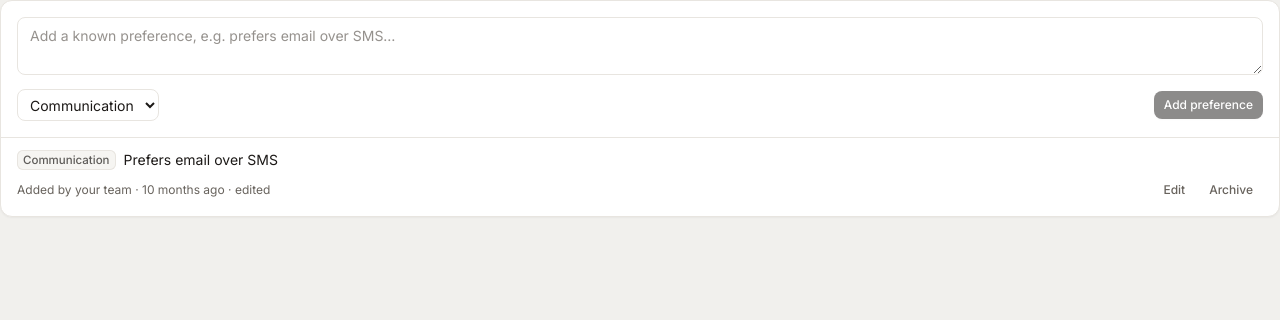
CustomerPreferences › marks an edited preference and saves a category + content edit
Expected: the text "· edited" is shown, top-left (225, 182), bottom-right (270, 197)
Click the button "Edit": (1174, 190) top-left (1153, 176), bottom-right (1195, 204)
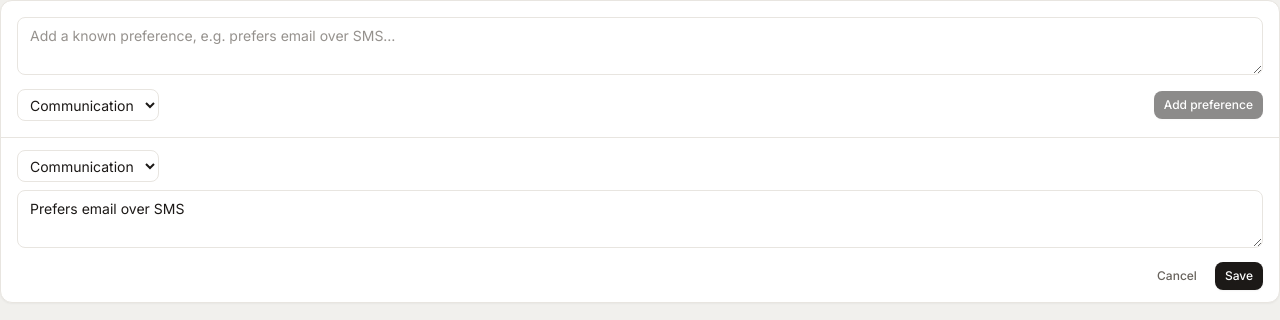
Select "Interaction" in the dropdown named "Edit preference category": (88, 166) top-left (17, 150), bottom-right (159, 182)
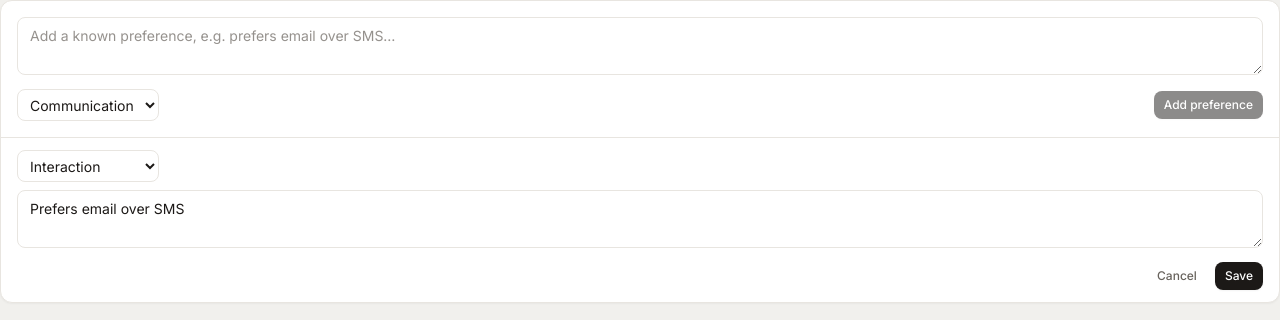
Replace the text in the text box named "Edit preference" with "Prefers a phone call": (640, 219) top-left (17, 190), bottom-right (1263, 248)
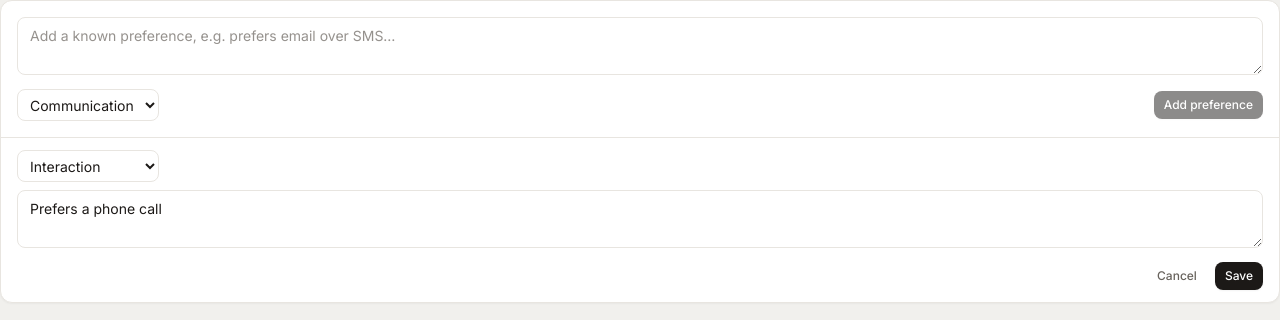
Click the button "Save": (1239, 276) top-left (1215, 262), bottom-right (1263, 290)
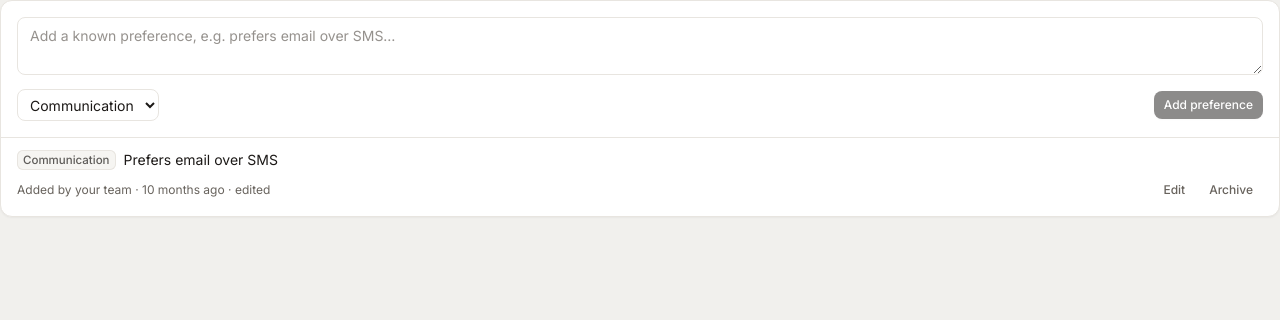
Expected: the button "Edit" is shown, top-left (1153, 176), bottom-right (1195, 204)
